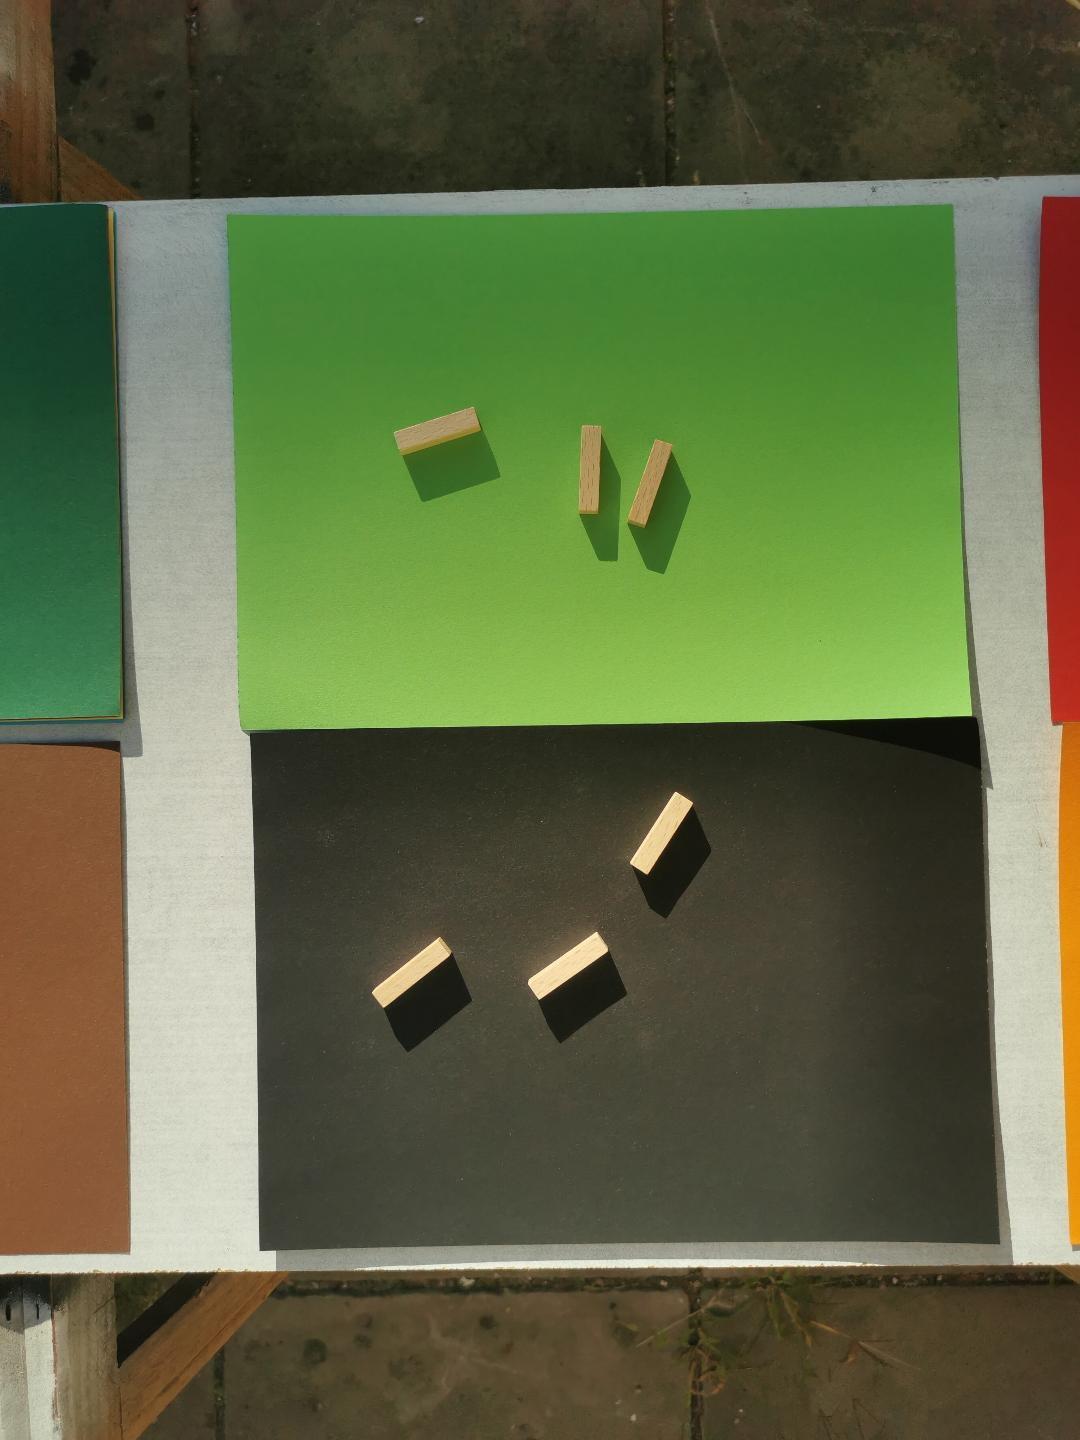jenga: (374, 937, 450, 1007), (529, 934, 608, 999), (630, 793, 692, 874), (394, 408, 481, 456), (627, 439, 673, 528), (580, 425, 602, 515)
